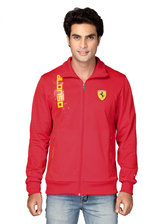clothoes: (21, 55, 143, 197)
